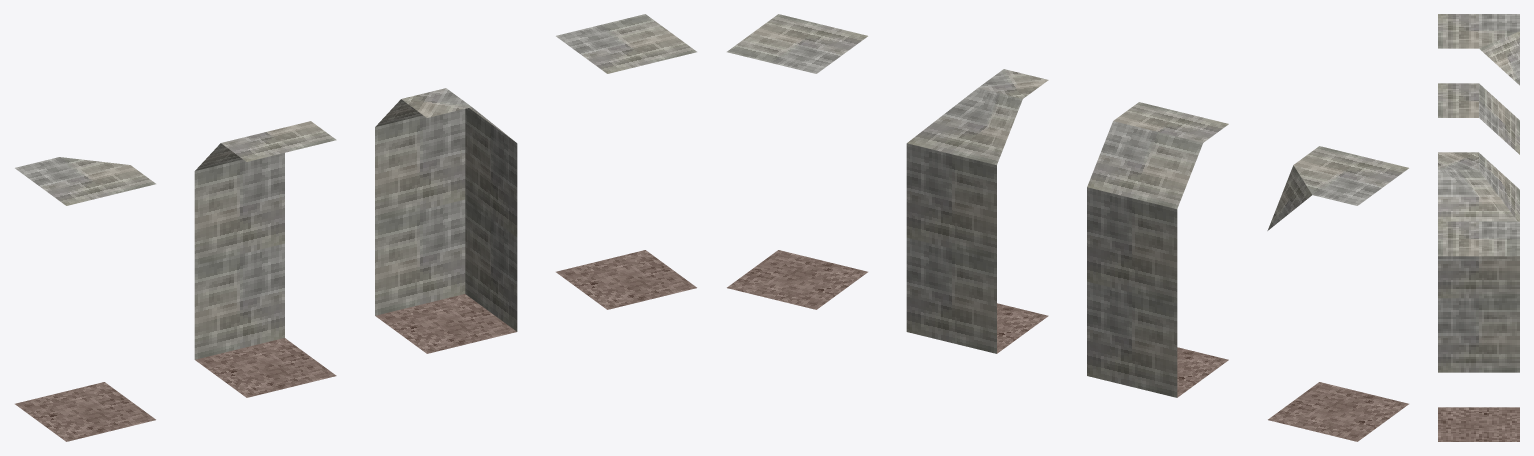
The model's file is tiles_project_backroom.glb.
3 renders of one model, left to right at view 1: azimuth 30°, elevation 25°; view 2: azimuth 150°, elevation 25°; view 3: azimuth 270°, elevation 25°, orthographic. The views are drawn at different scales.
Visible parts, largest first — view 1: corner-out-col, wall-col, floor-col, corner-in-col; view 2: wall-col, corner-out-col, corner-in-col, floor-col; view 3: corner-out-col, floor-col, corner-in-col, wall-col.
Boxes of the visible parts, x1,y1,x2,y2 form: corner-out-col: [375, 88, 517, 353]; wall-col: [194, 121, 336, 397]; floor-col: [556, 14, 696, 309]; corner-in-col: [15, 157, 155, 441]; wall-col: [1087, 102, 1228, 397]; corner-out-col: [906, 69, 1048, 353]; corner-in-col: [1267, 146, 1408, 441]; floor-col: [727, 14, 867, 309]; corner-out-col: [1438, 152, 1519, 372]; floor-col: [1438, 221, 1519, 441]; corner-in-col: [1438, 14, 1519, 85]; wall-col: [1438, 83, 1519, 154].
Bounding box in the file's own units: 7 × 2.5 × 1.
1 material, 1 textured.
